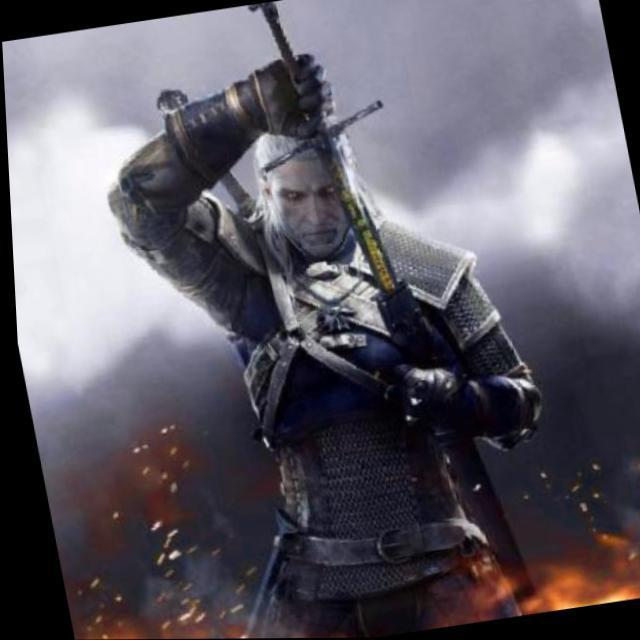weapon: (246, 0, 418, 311)
